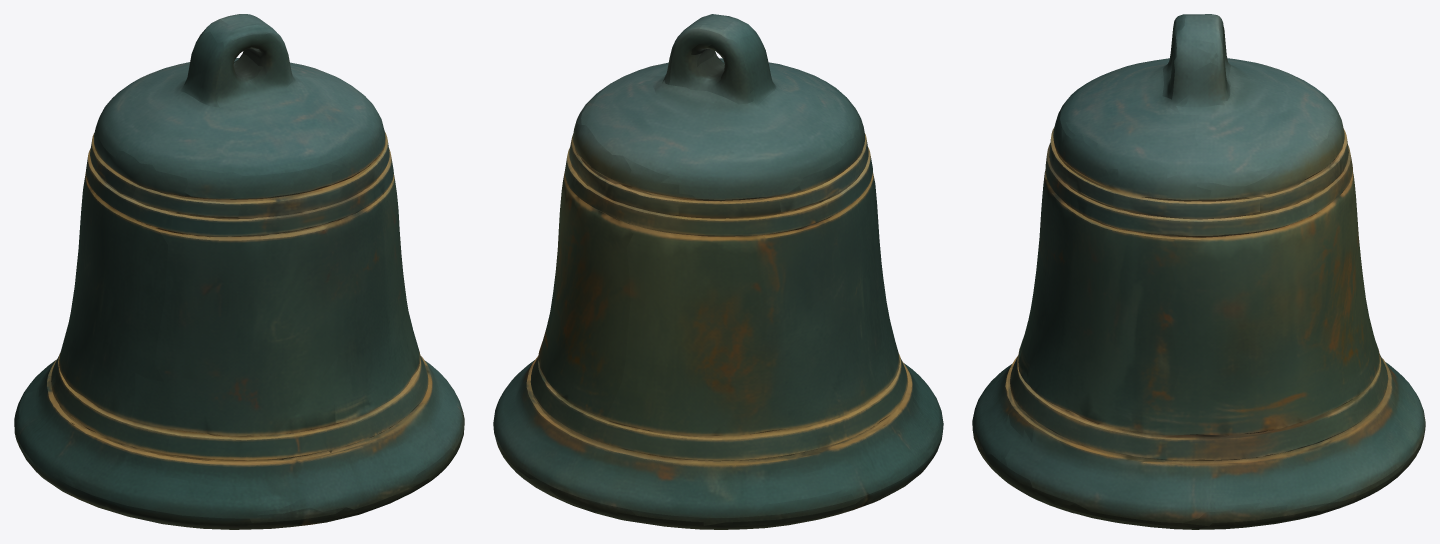
Rendered from stone-bell.glb.
The picture shows the model from 3 angles, left to right: view 1: azimuth 30°, elevation 25°; view 2: azimuth 150°, elevation 25°; view 3: azimuth 270°, elevation 25°; orthographic projection.
Visible parts, largest first — view 1: BellBody__Aholo8211698; view 2: BellBody__Aholo8211698; view 3: BellBody__Aholo8211698.
Boxes of the visible parts, x1=… form: BellBody__Aholo8211698: x1=14, y1=14, x2=464, y2=529; BellBody__Aholo8211698: x1=493, y1=14, x2=943, y2=529; BellBody__Aholo8211698: x1=972, y1=14, x2=1425, y2=529.
Bounding box in the file's own units: 0.4096 × 0.42 × 0.4093.
1 material, 1 textured.
